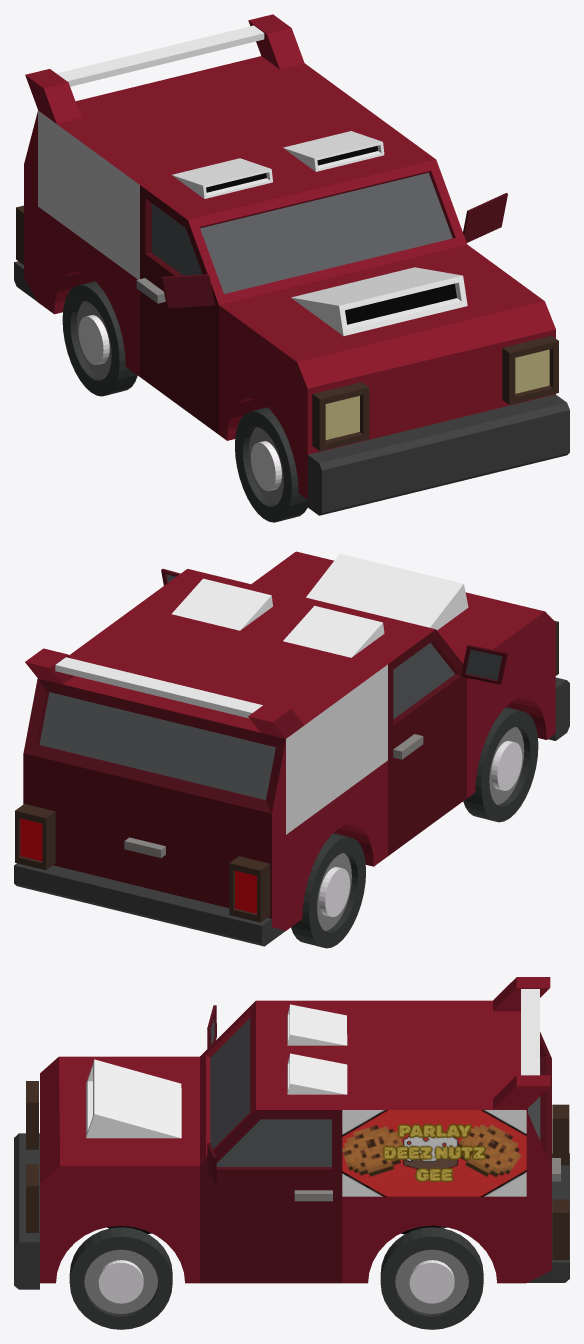
The model's file is sandlord.glb.
The picture shows the model from 3 angles, top to bottom: view 1: azimuth 30°, elevation 25°; view 2: azimuth 150°, elevation 25°; view 3: azimuth 270°, elevation 25°; orthographic projection. The views are drawn at different scales.
Parts seen in each view (by area): view 1: Body, Wheel, Wheel.001; view 2: Body, Wheel.001, Wheel; view 3: Body, Wheel.003, Wheel.002.
Part boxes in pixels (x1,y1,x2,y2): Body: [14, 14, 569, 515]; Wheel: [235, 407, 307, 522]; Wheel.001: [62, 281, 137, 396]; Body: [14, 551, 569, 946]; Wheel.001: [291, 833, 365, 948]; Wheel: [463, 707, 538, 822]; Body: [14, 977, 569, 1289]; Wheel.003: [380, 1227, 483, 1329]; Wheel.002: [69, 1227, 172, 1329].
Size of the model in its own units: 5.57 by 4.16 by 8.6.
15 materials, 1 textured.
